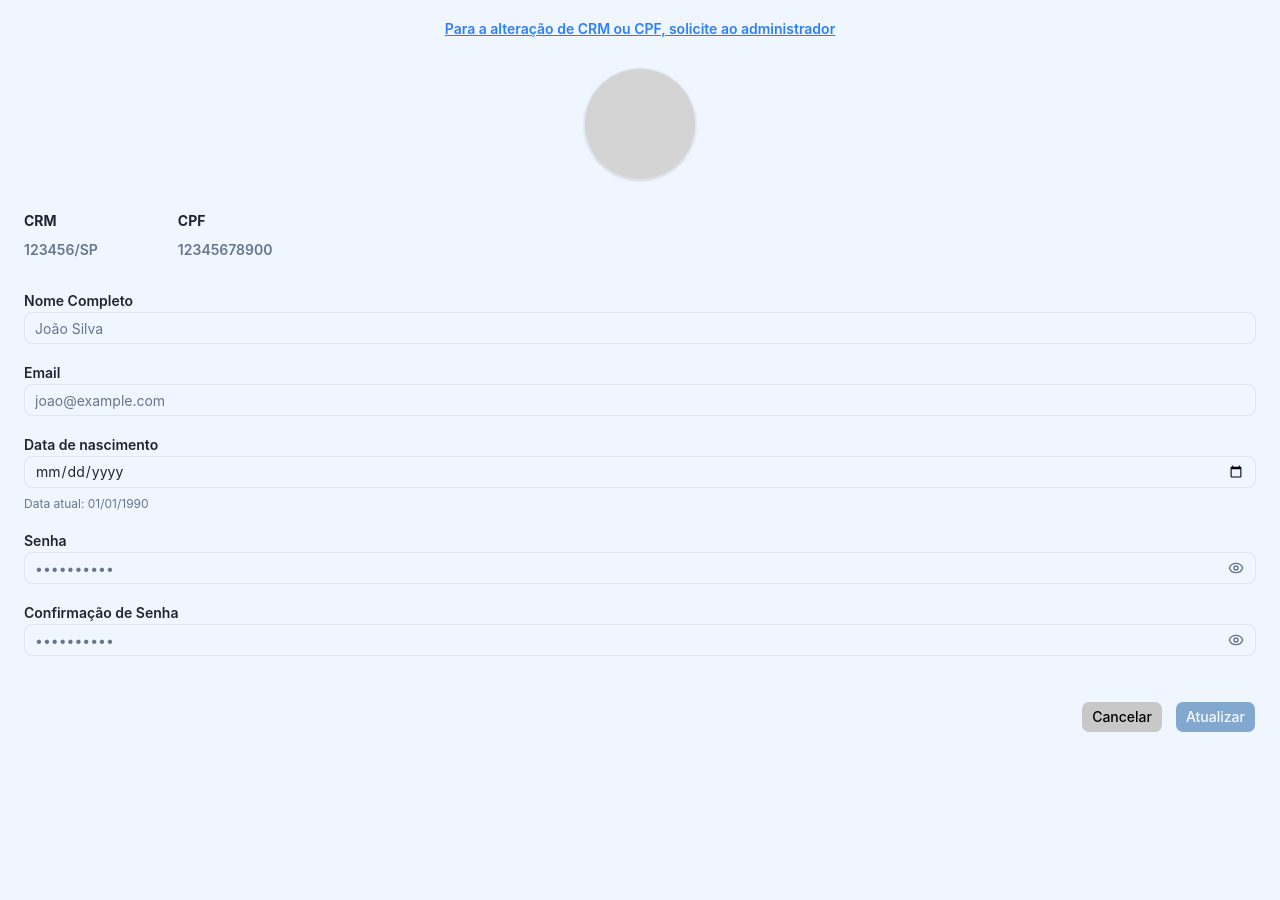
Test: Componente EditProfile › deve mostrar erro ao tentar solicitar alteração com CPF inválido
Click the text "Para a alteração de CRM ou CPF, solicite ao administrador" at (640, 28), box [445, 20, 835, 37]
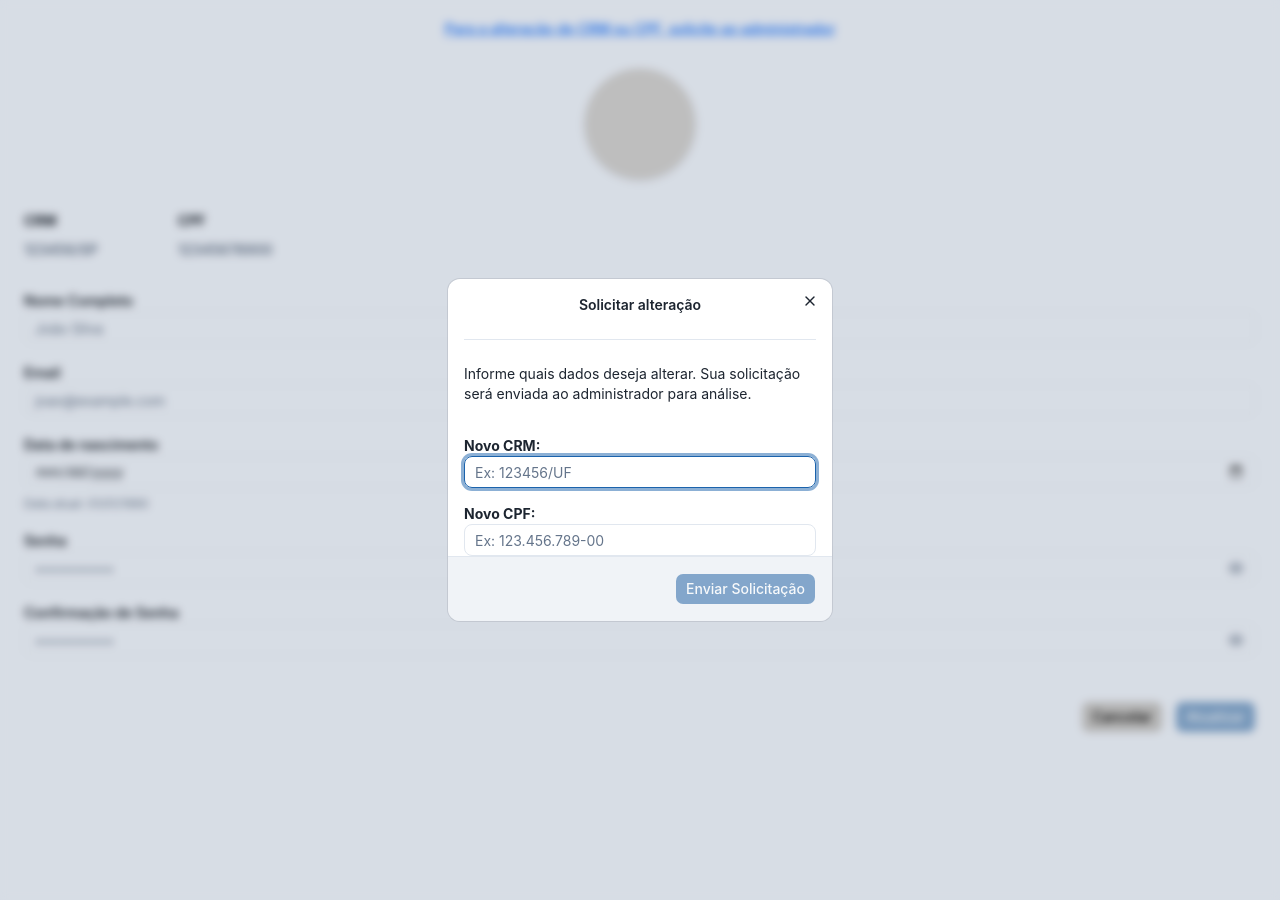
Type "123" into the field with placeholder "Ex: 123.456.789-00" at (640, 540), box [464, 524, 816, 556]
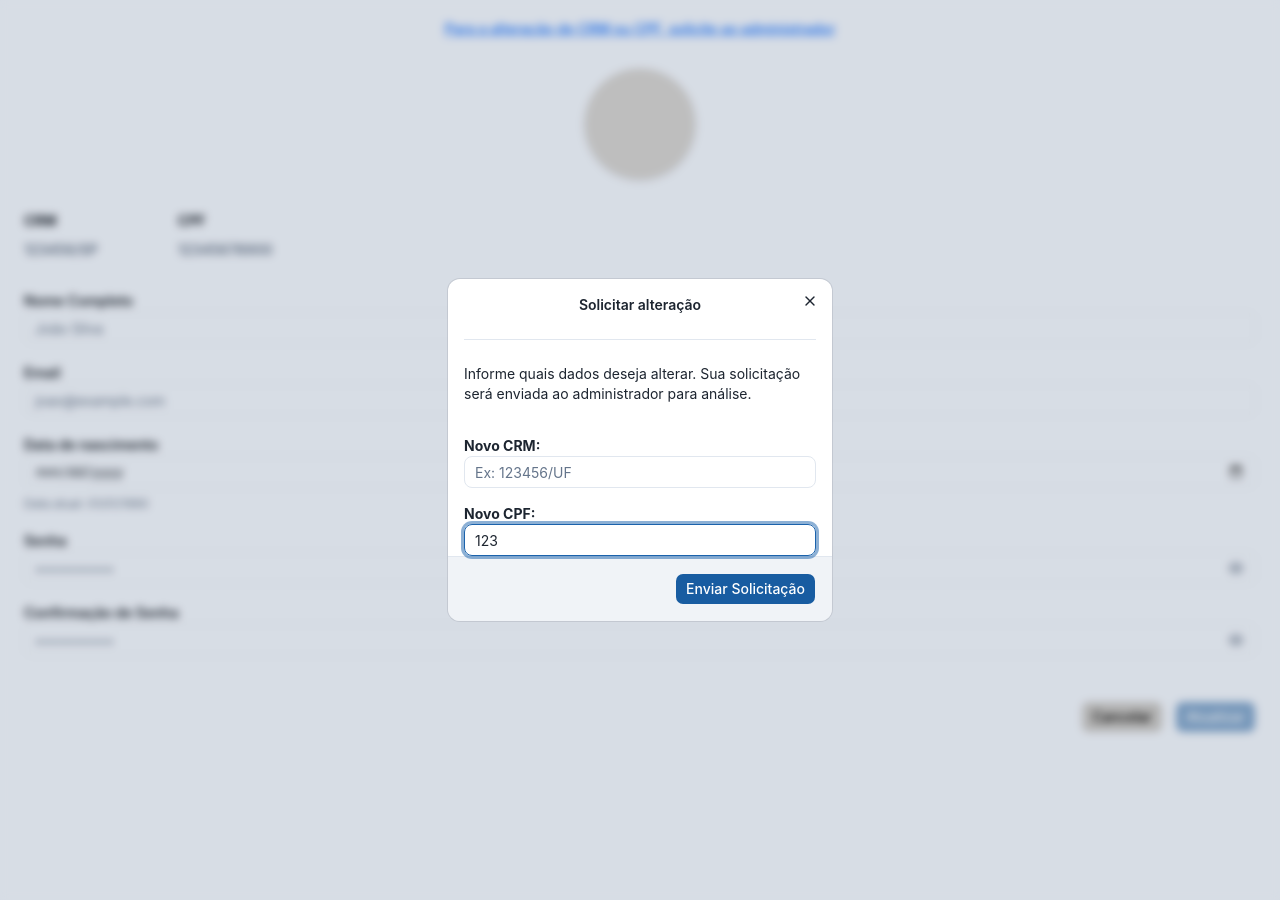
Click the button "Enviar Solicitação" at (746, 589), box [675, 573, 816, 605]
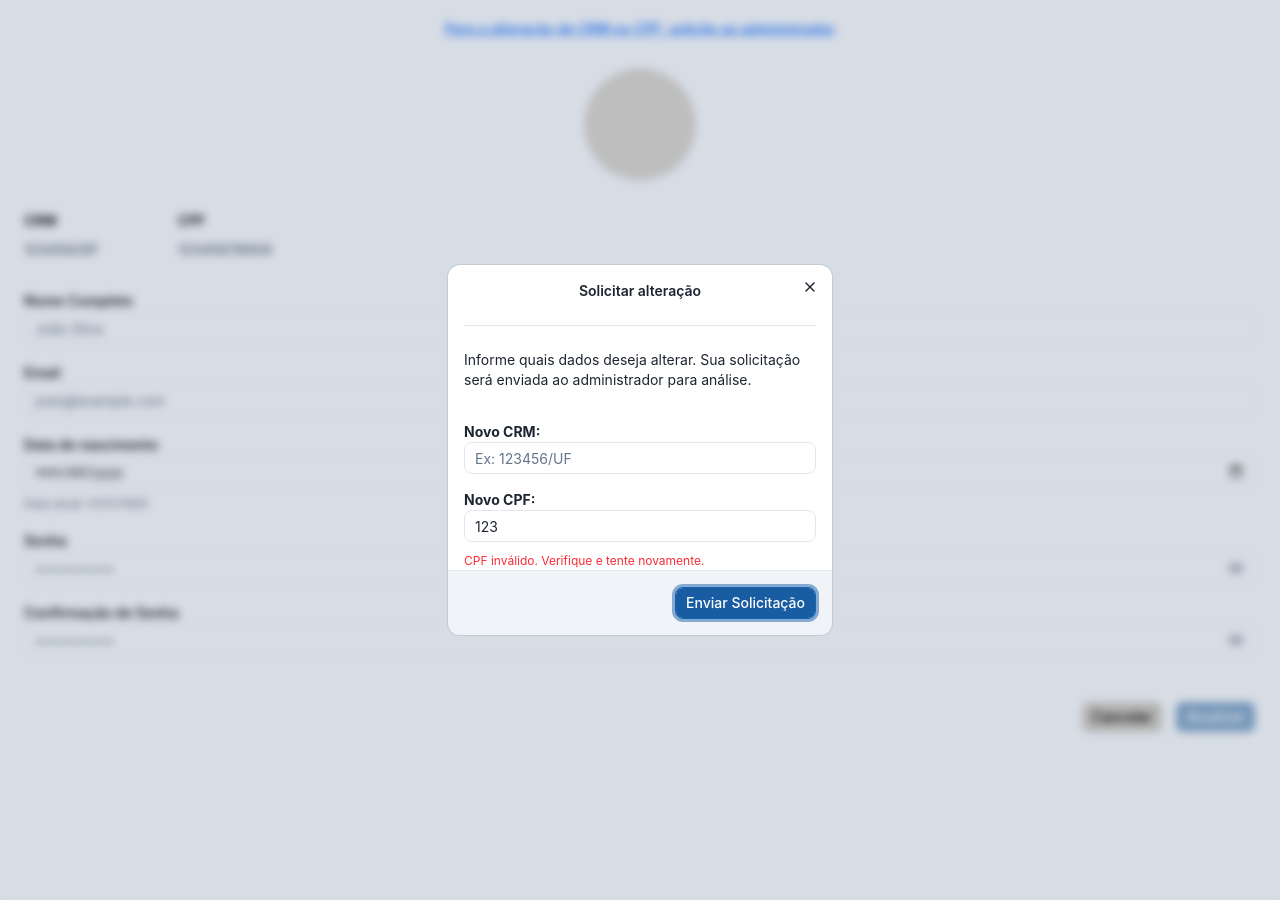
Result: the text "CPF inválido. Verifique e tente novamente." is shown at [464, 553, 704, 568]
